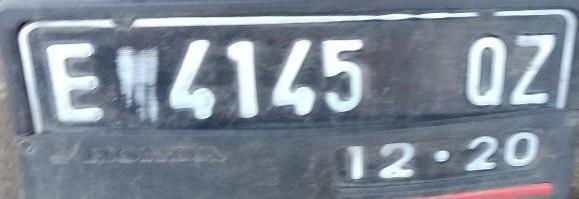1: (225, 38, 263, 120)
4: (165, 39, 221, 122), (268, 38, 312, 118)
5: (320, 36, 370, 115)
E: (46, 39, 110, 130)
Q: (458, 32, 510, 110)
Z: (510, 30, 556, 110)
